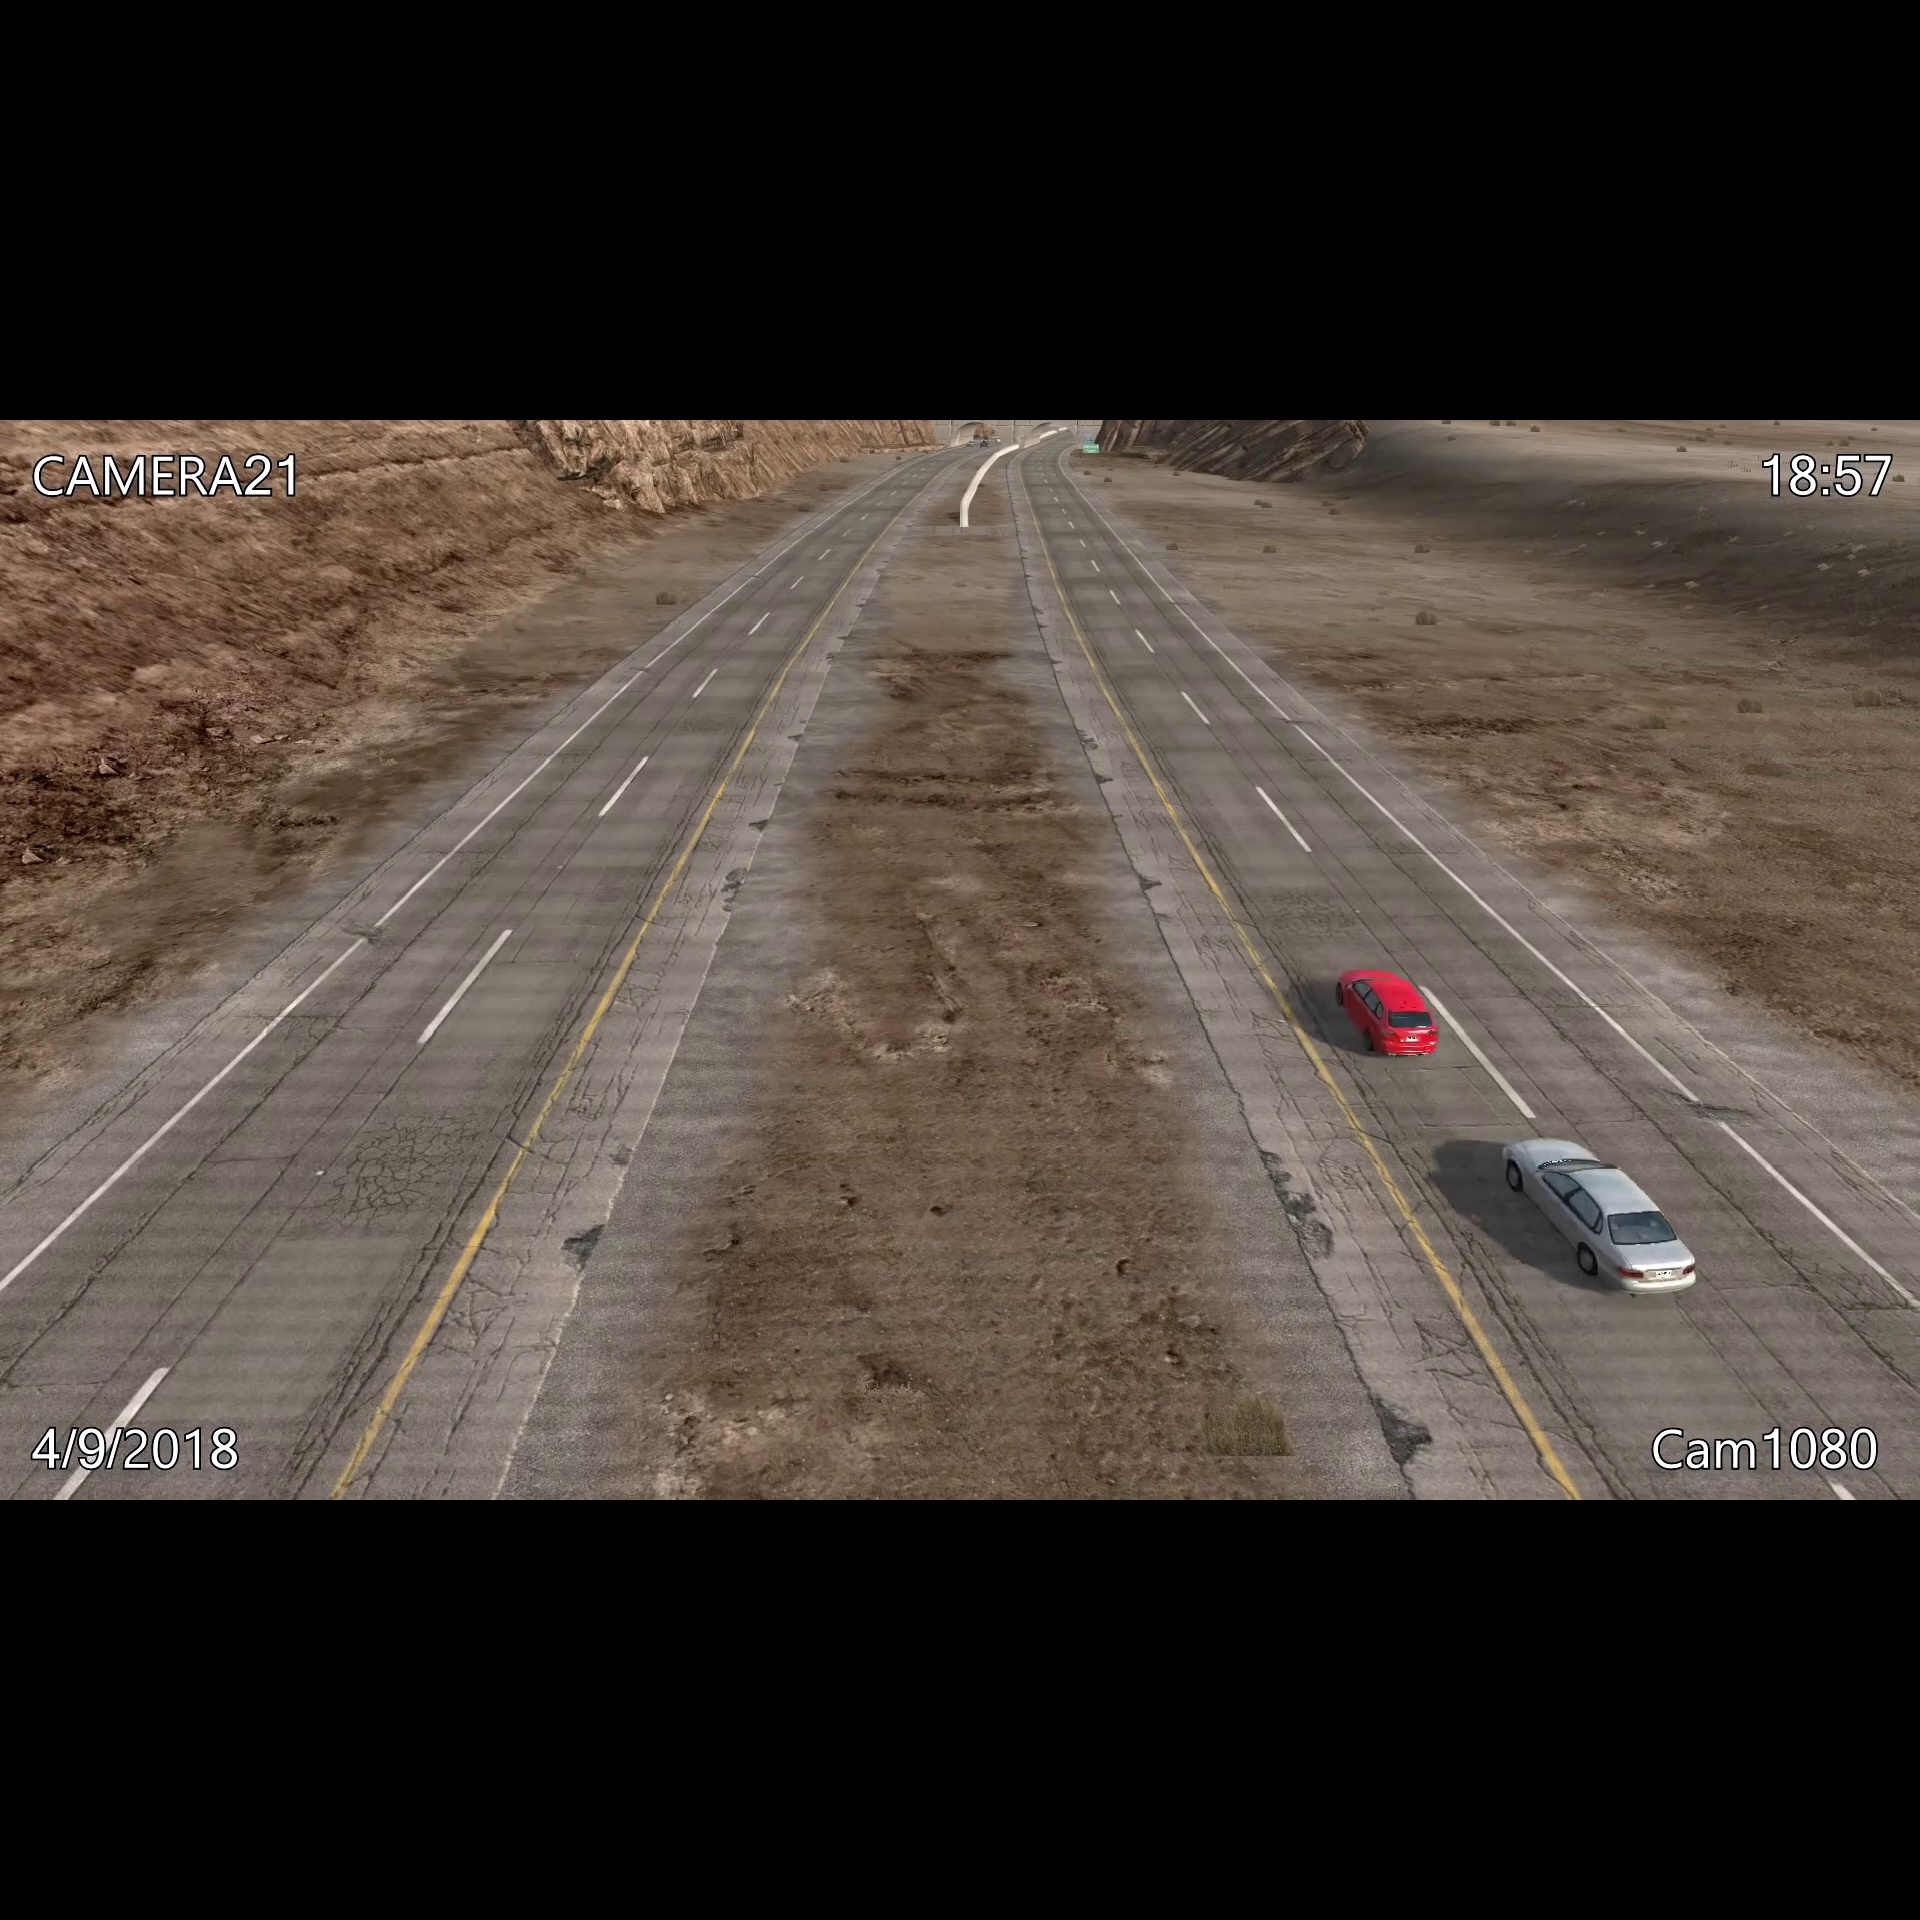vehicle: (1493, 1125, 1704, 1303), (1333, 964, 1445, 1060)
